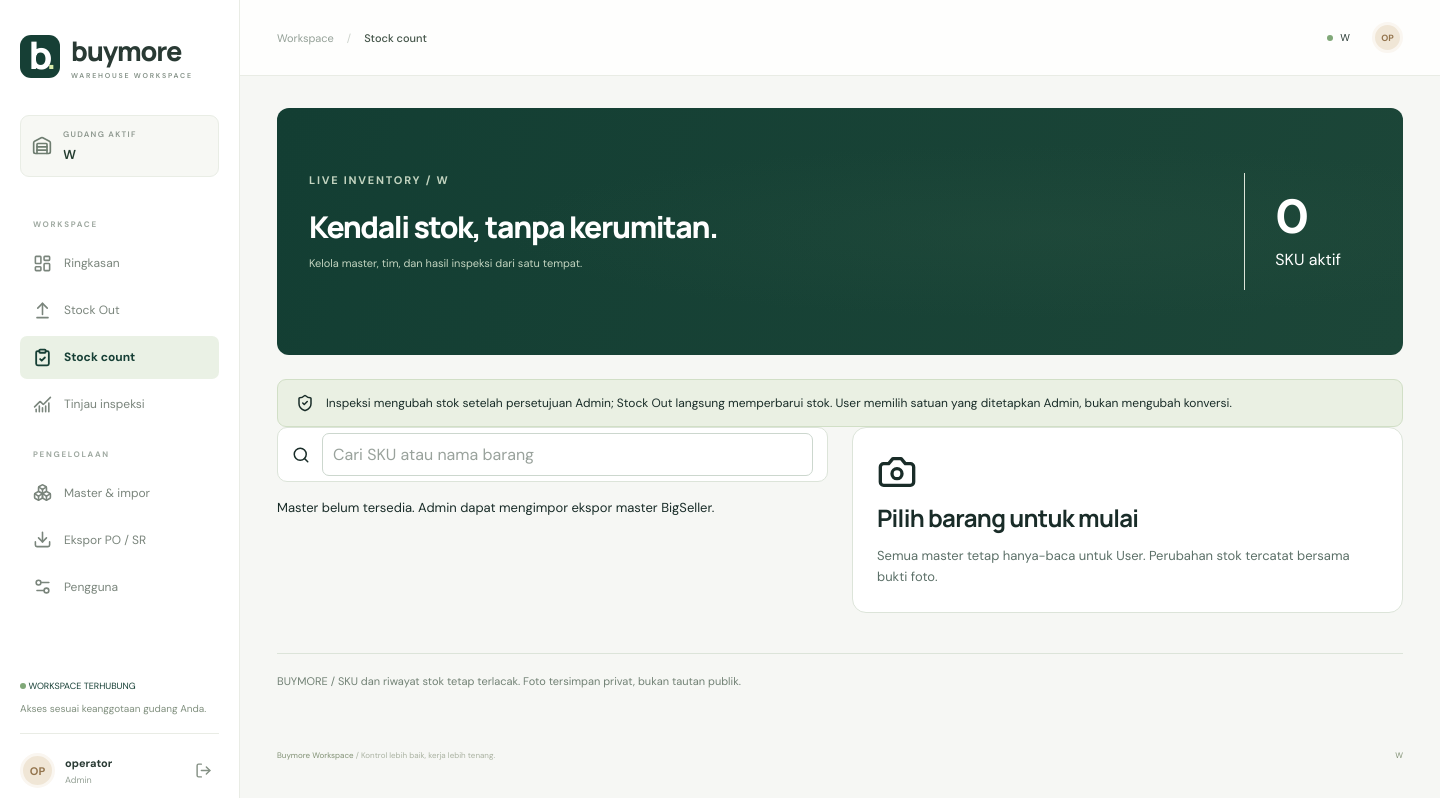
Test: active inspection DOM › refreshes imported master products when returning to inspection
This screenshot has width=1440, height=798.
Click the button "Master & impor" at [120, 493], box [20, 471, 219, 514]
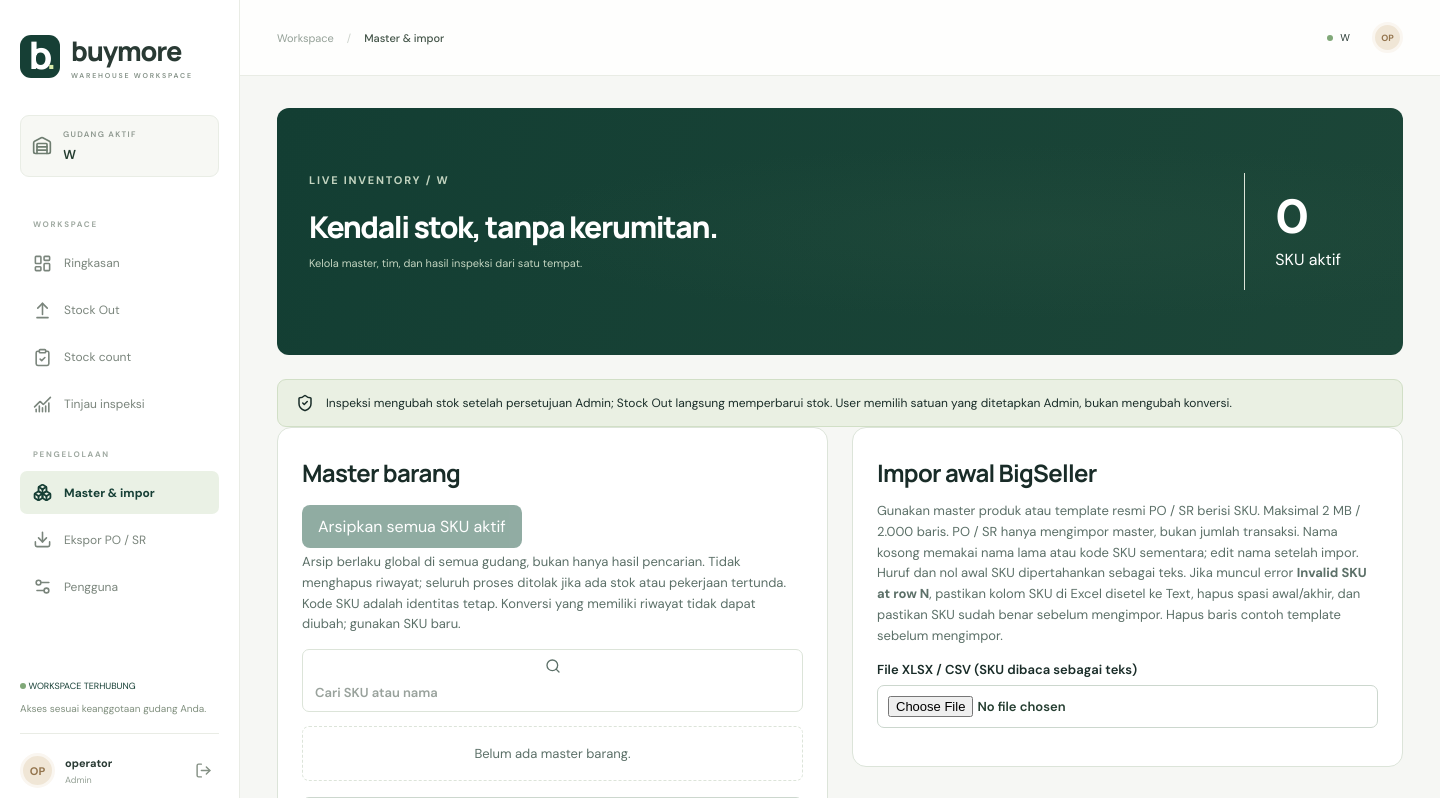
Click the button "Stock count" at [120, 357], box [20, 336, 219, 379]
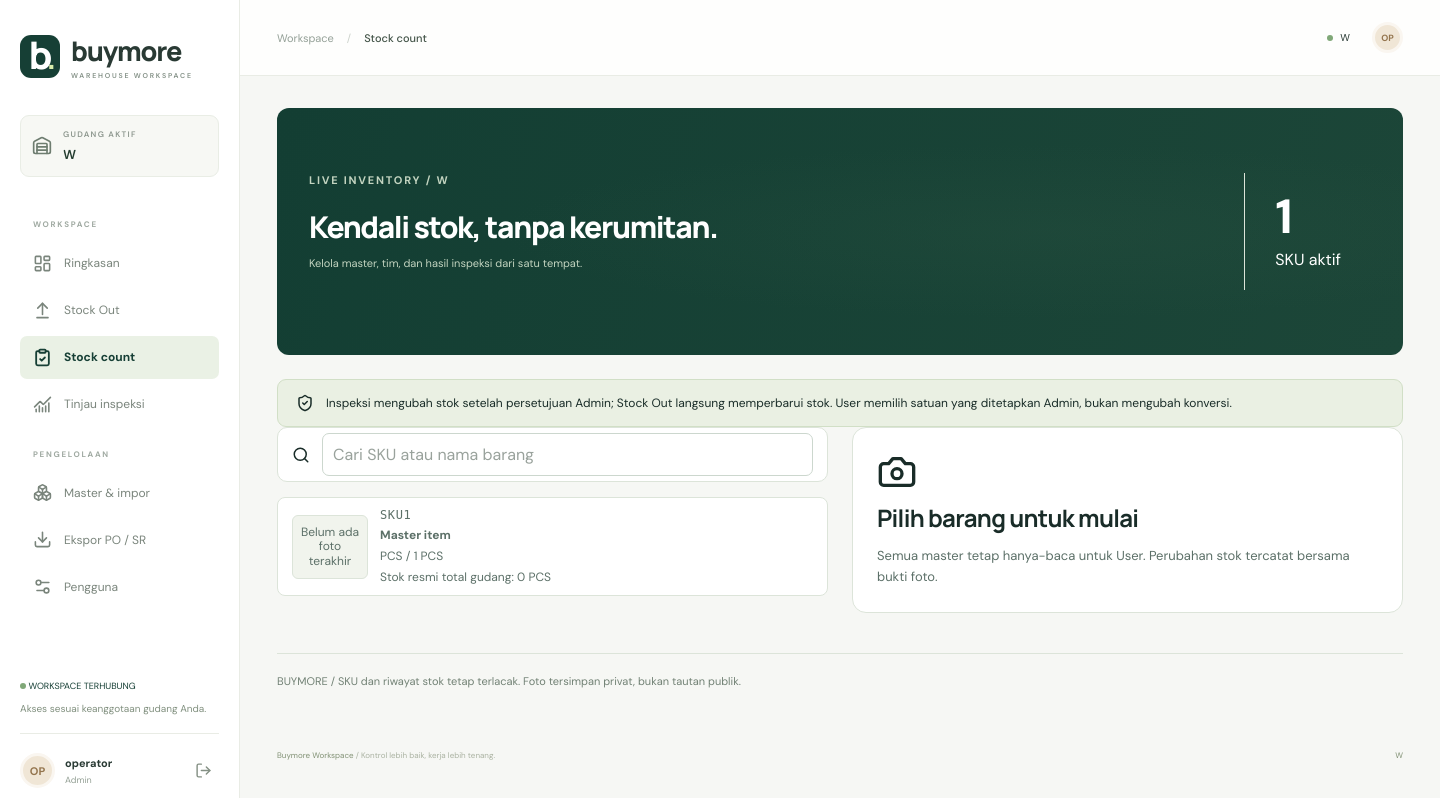
Result: the text "Master item" is shown at [380, 527, 451, 543]
